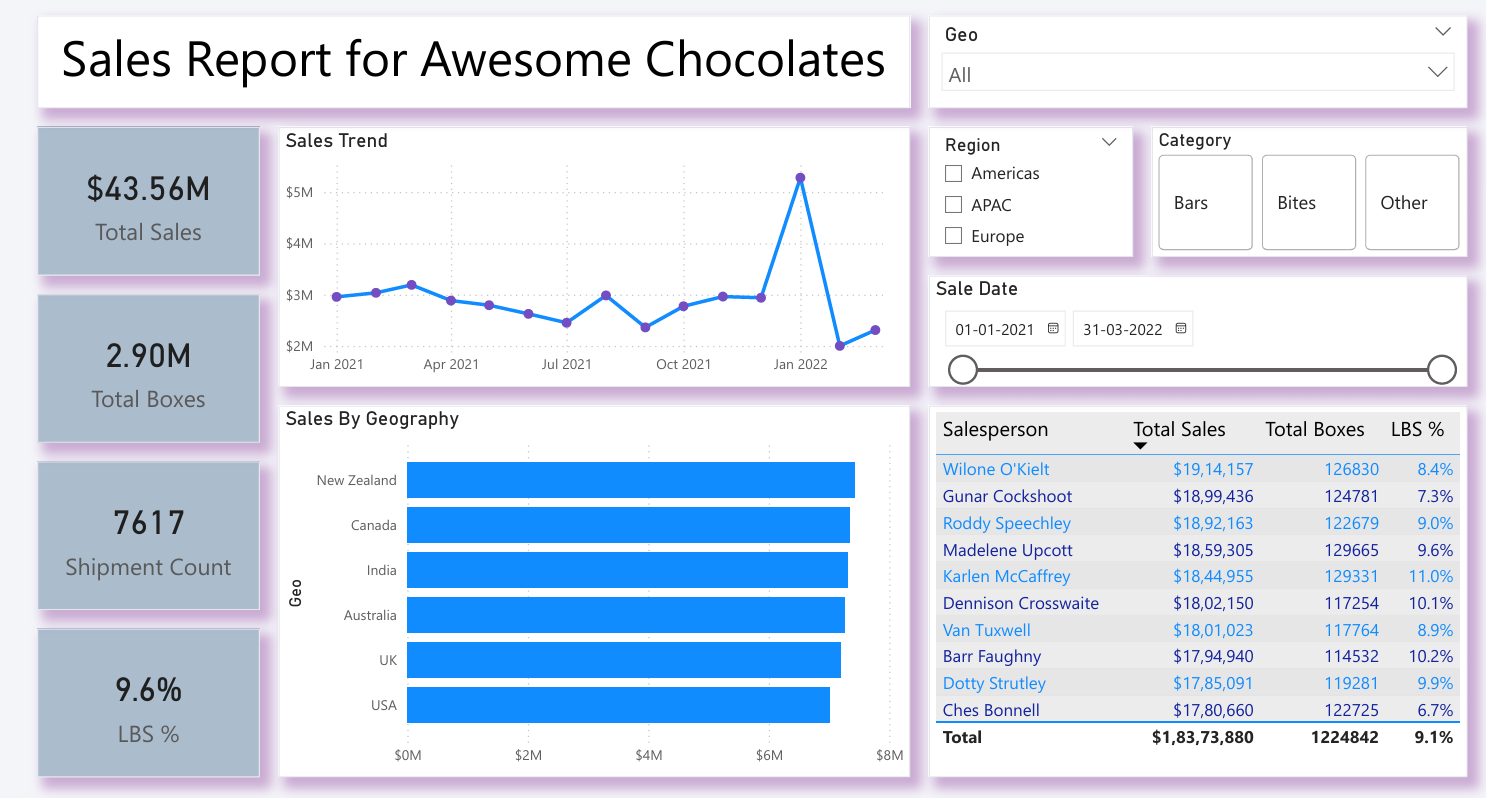

This screenshot's page, from the dashboard's own definition file:
{"tool":"powerbi","page":{"name":"Page 1","canvas":[1280,720],"ordinal":0},"visuals":[{"type":"card","fields":{"Values":["Sales.Total Sales"]},"box":[32,112,192,128],"z":0,"group":"g1"},{"type":"group","id":"g1","title":"Group 1","box":[32,112,192,560],"z":0},{"type":"lineChart","title":"Sales Trend","fields":{"Y":["Sales.Total Sales"],"Category":["Sales.SaleDate.Variation.Date Hierarchy.Year","Sales.SaleDate.Variation.Date Hierarchy.Quarter","Sales.SaleDate.Variation.Date Hierarchy.Month"]},"box":[240,112,544,224],"z":1000},{"type":"card","fields":{"Values":["Sales.Shipment Count"]},"box":[32,400,192,128],"z":1000,"group":"g1"},{"type":"card","fields":{"Values":["Sales.Total Boxes"]},"box":[32,256,192,128],"z":2000,"group":"g1"},{"type":"barChart","title":"Sales By Geography","fields":{"Y":["Sales.Total Sales"],"Category":["Geo.Geo"]},"box":[240,352,544,320],"z":2000},{"type":"tableEx","title":"T","fields":{"Values":["People.Salesperson","Sales.Total Sales","Sales.Total Boxes","Sales.LBS %"]},"box":[800,352,464,320],"z":3000},{"type":"card","fields":{"Values":["Sales.LBS %"]},"box":[32,544,192,128],"z":3000,"group":"g1"},{"type":"textbox","box":[32,16,752,80],"z":4000},{"type":"slicer","fields":{"Values":["Geo.Region"]},"box":[800,112,176,112],"z":5000},{"type":"slicer","title":"Sale Date","fields":{"Values":["Sales.SaleDate"]},"box":[800,240,464,96],"z":6000},{"type":"advancedSlicerVisual","fields":{"Values":["Products.Category"]},"box":[992,112,272,112],"z":7000},{"type":"slicer","fields":{"Values":["Geo.Geo"]},"box":[800,16,464,80],"z":8000}]}

Visuals, with their boxes on the page's 1280x720 design canvas (x1, y1, x2, y2). These are canvas units, not pixel positions in the 1494x798 screenshot, which may show the page scaled, cropped or inside an application window:
card - Sales.Total Sales: box=[32, 112, 224, 240]
"Group 1" group: box=[32, 112, 224, 672]
"Sales Trend" lineChart: box=[240, 112, 784, 336]
card - Sales.Shipment Count: box=[32, 400, 224, 528]
card - Sales.Total Boxes: box=[32, 256, 224, 384]
"Sales By Geography" barChart: box=[240, 352, 784, 672]
"T" tableEx: box=[800, 352, 1264, 672]
card - Sales.LBS %: box=[32, 544, 224, 672]
textbox: box=[32, 16, 784, 96]
slicer - Geo.Region: box=[800, 112, 976, 224]
"Sale Date" slicer: box=[800, 240, 1264, 336]
advancedSlicerVisual - Products.Category: box=[992, 112, 1264, 224]
slicer - Geo.Geo: box=[800, 16, 1264, 96]
